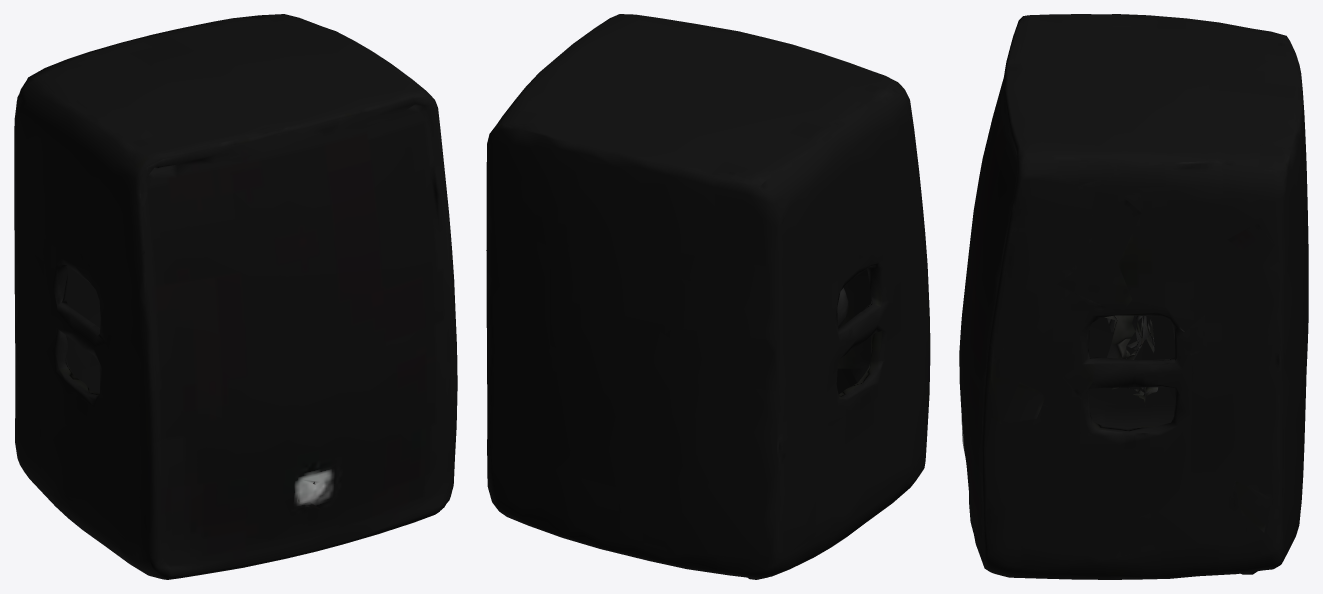
Rendered from stage-monitor-s2.lo.glb.
The picture shows the model from 3 angles, left to right: view 1: azimuth 30°, elevation 25°; view 2: azimuth 150°, elevation 25°; view 3: azimuth 270°, elevation 25°; orthographic projection. The views are drawn at different scales.
Visible parts, largest first — view 1: geometry_0; view 2: geometry_0; view 3: geometry_0.
Part boxes in pixels (box(x1,y1,x2,y2)): geometry_0: box(14, 14, 457, 579); geometry_0: box(486, 14, 930, 579); geometry_0: box(959, 14, 1308, 579).
Size of the model in its own units: 0.7671 by 1 by 0.7265.
1 material, 1 textured.
